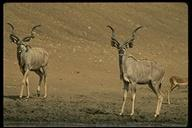antelope: (103, 22, 168, 118), (6, 18, 53, 103), (167, 71, 191, 99)
